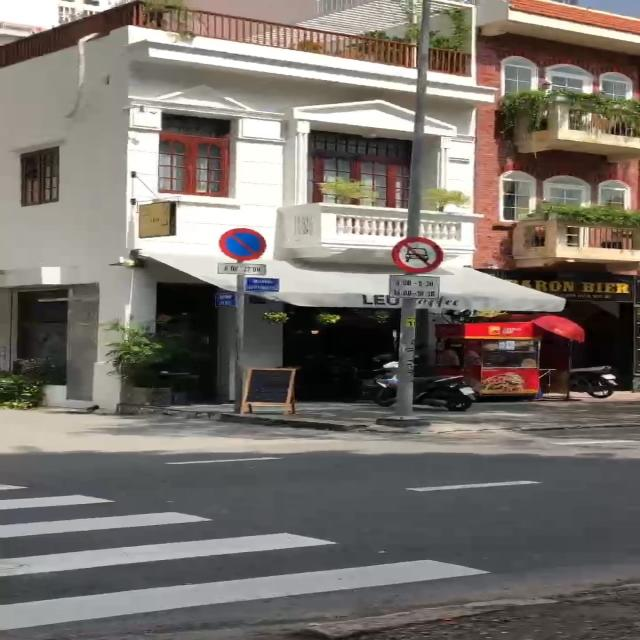Bien bao cam do xe: (217, 222, 272, 264)
Bien bao cam xe oto: (390, 233, 446, 274)
